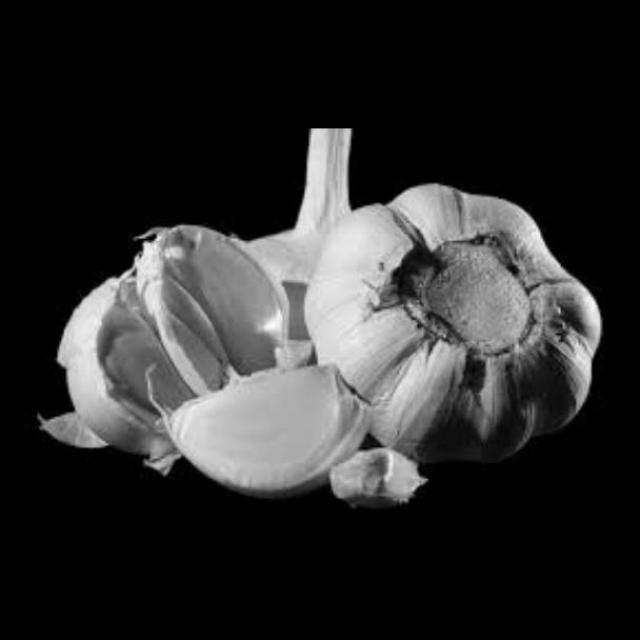garlic: (307, 181, 600, 472), (58, 226, 283, 441), (236, 128, 374, 372), (162, 355, 375, 506), (324, 447, 428, 509)
